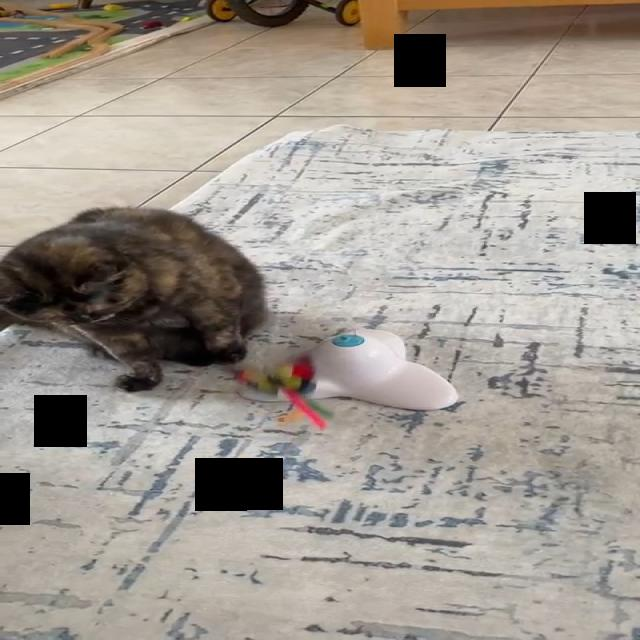authorized: (0, 205, 268, 392)
